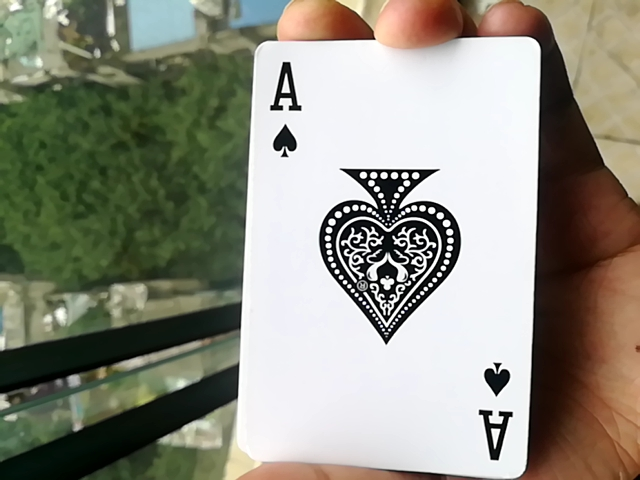ht a: (220, 49, 535, 480)
